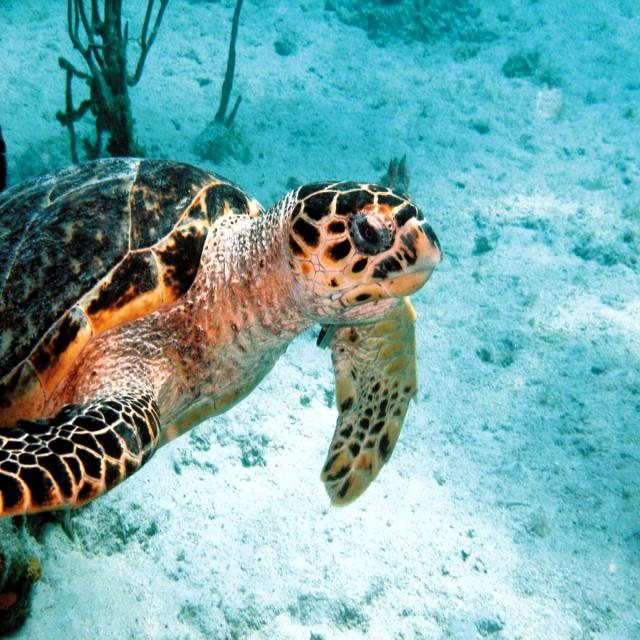Sea turtle: (1, 90, 443, 514)
